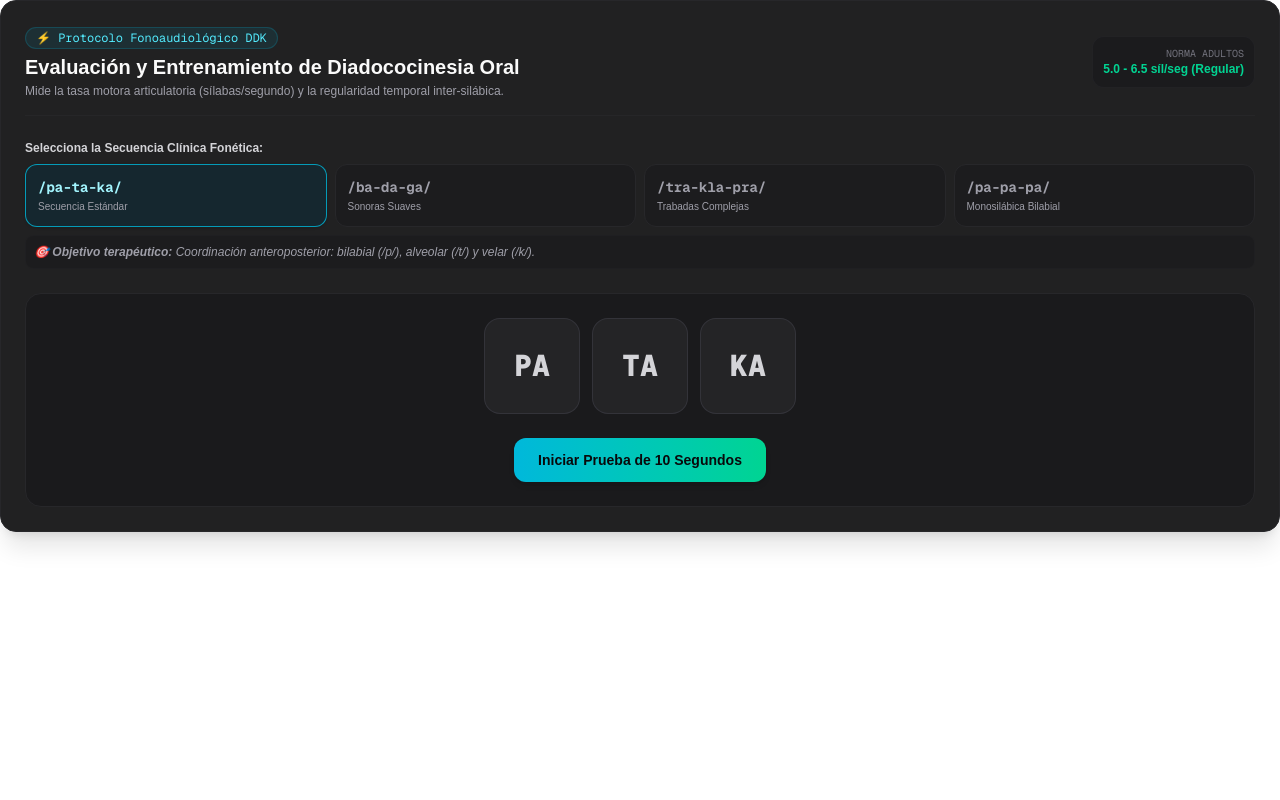
Test: DiadochokinesisTrainer Component › debe iniciar la prueba y permitir registrar pulsos silábicos
Step 1. Click the button "Iniciar Prueba de 10 Segundos" → [640, 460], box [514,438,766,482]
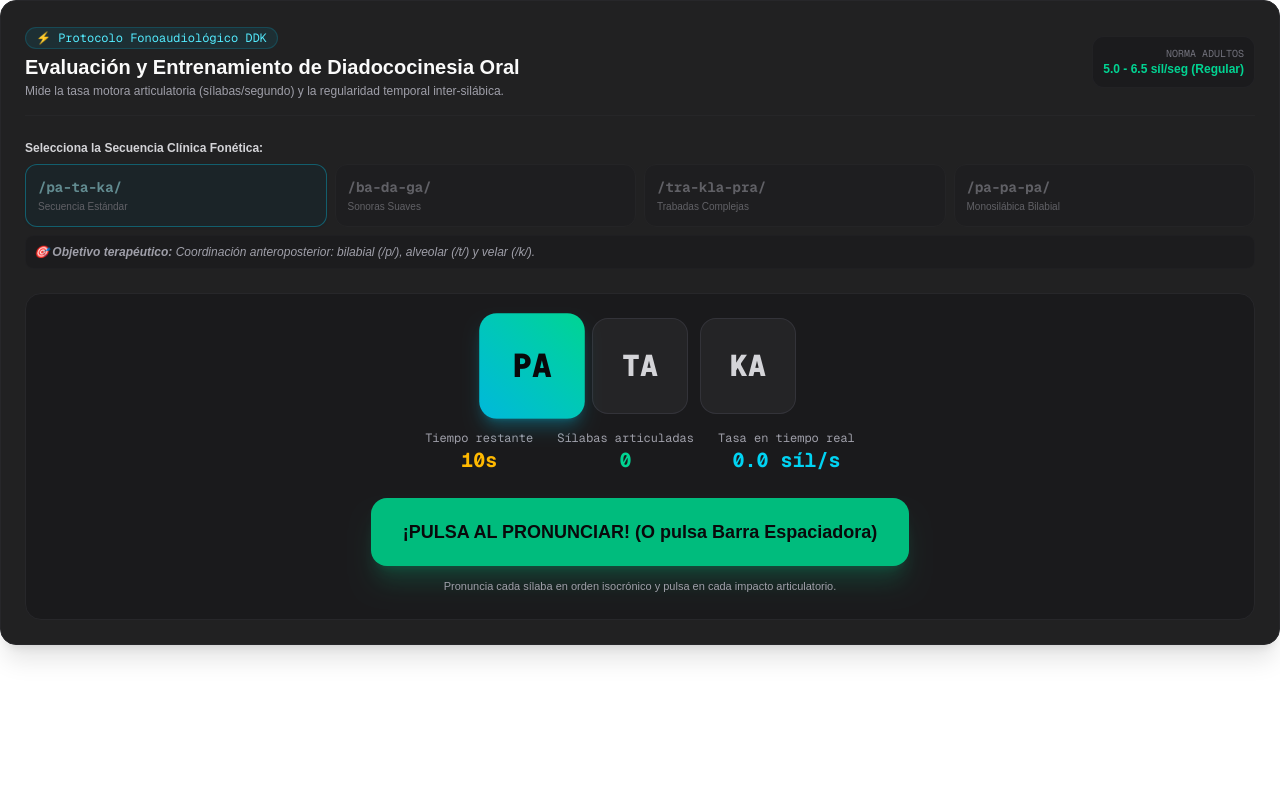
Result: the button "¡PULSA AL PRONUNCIAR! (O pulsa Barra Espaciadora)" is shown
Registrar 3 sílabas
Step 2. Click the button "¡PULSA AL PRONUNCIAR! (O pulsa Barra Espaciadora)" → [640, 532], box [371,498,909,566]
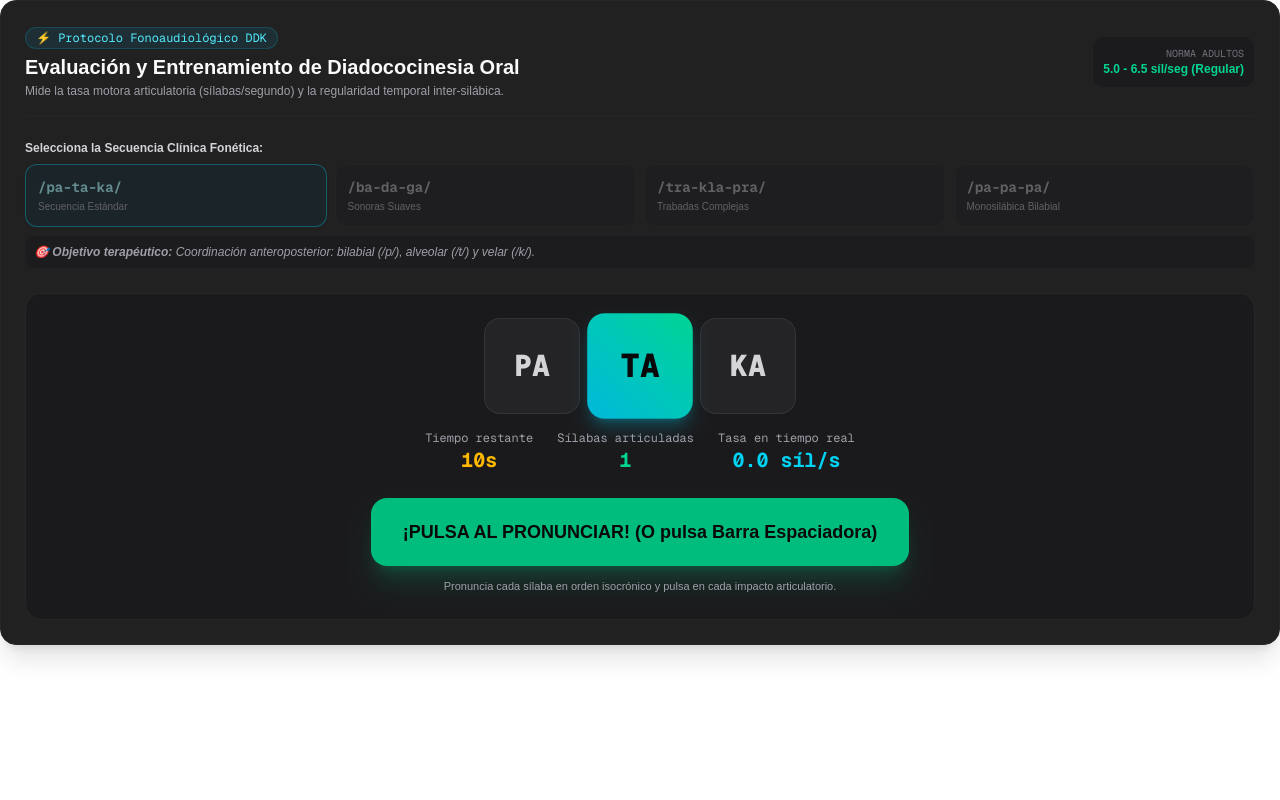
Step 3. Click the button "¡PULSA AL PRONUNCIAR! (O pulsa Barra Espaciadora)" → [640, 532], box [371,498,909,566]
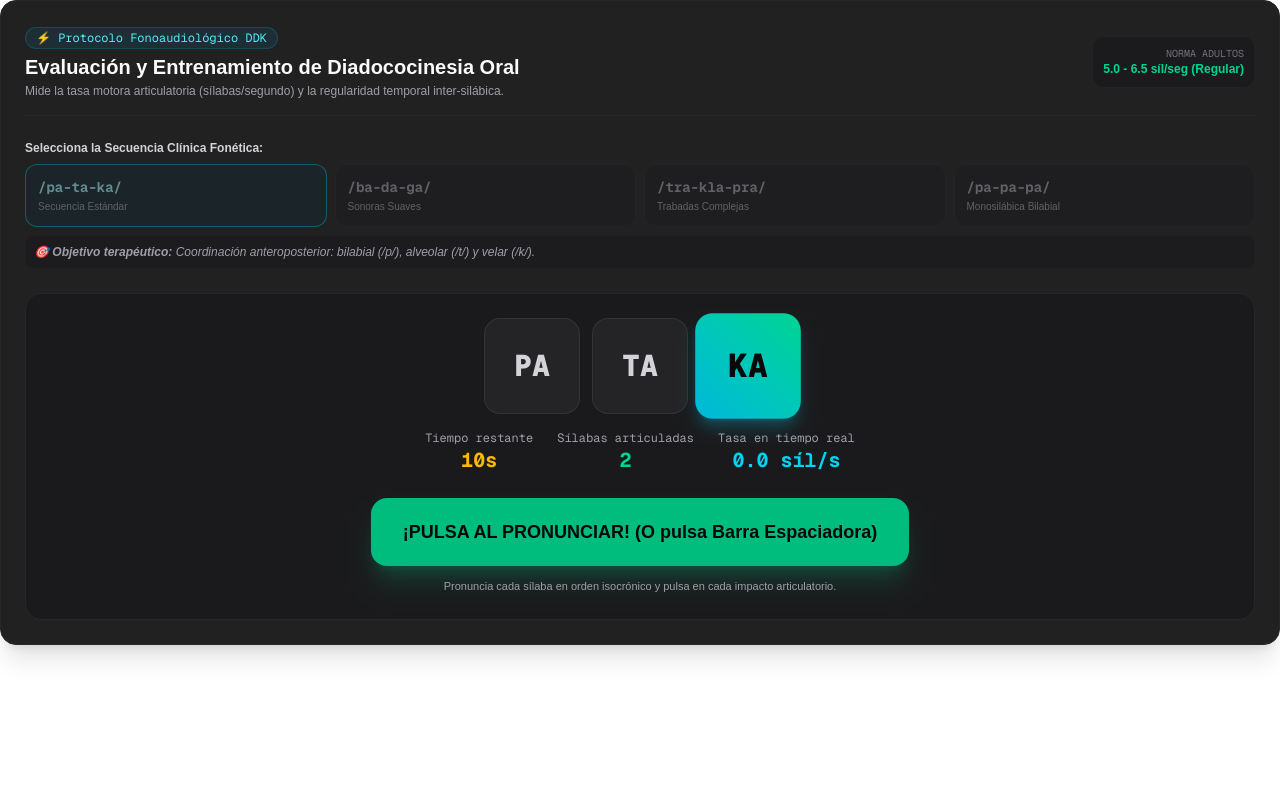
Step 4. Click the button "¡PULSA AL PRONUNCIAR! (O pulsa Barra Espaciadora)" → [640, 532], box [371,498,909,566]
Wait 10000 ms
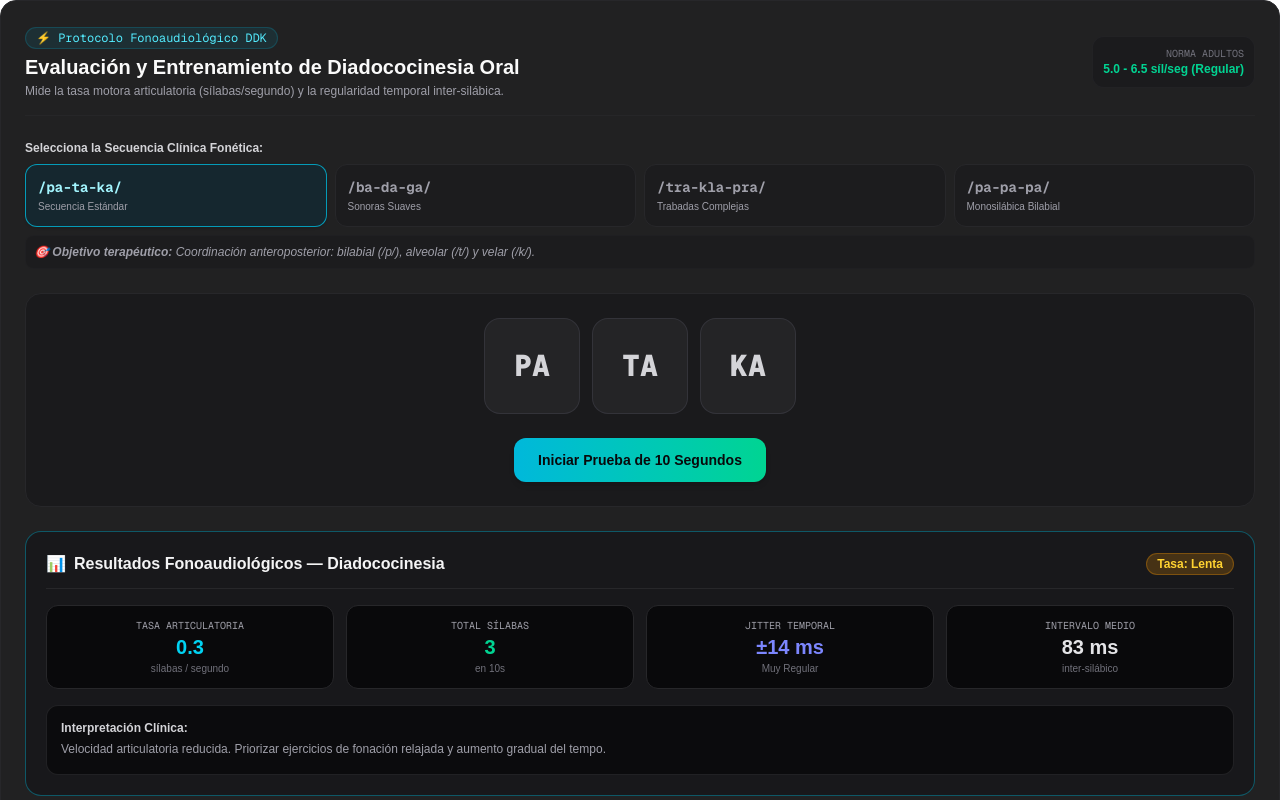
Result: the text "3" is shown at [484,636,496,658]
Result: the text "Resultados Fonoaudiológicos — Diadococinesia" is shown at [74,552,445,576]
Result: the text "Tasa Articulatoria" is shown at [136,619,244,632]
